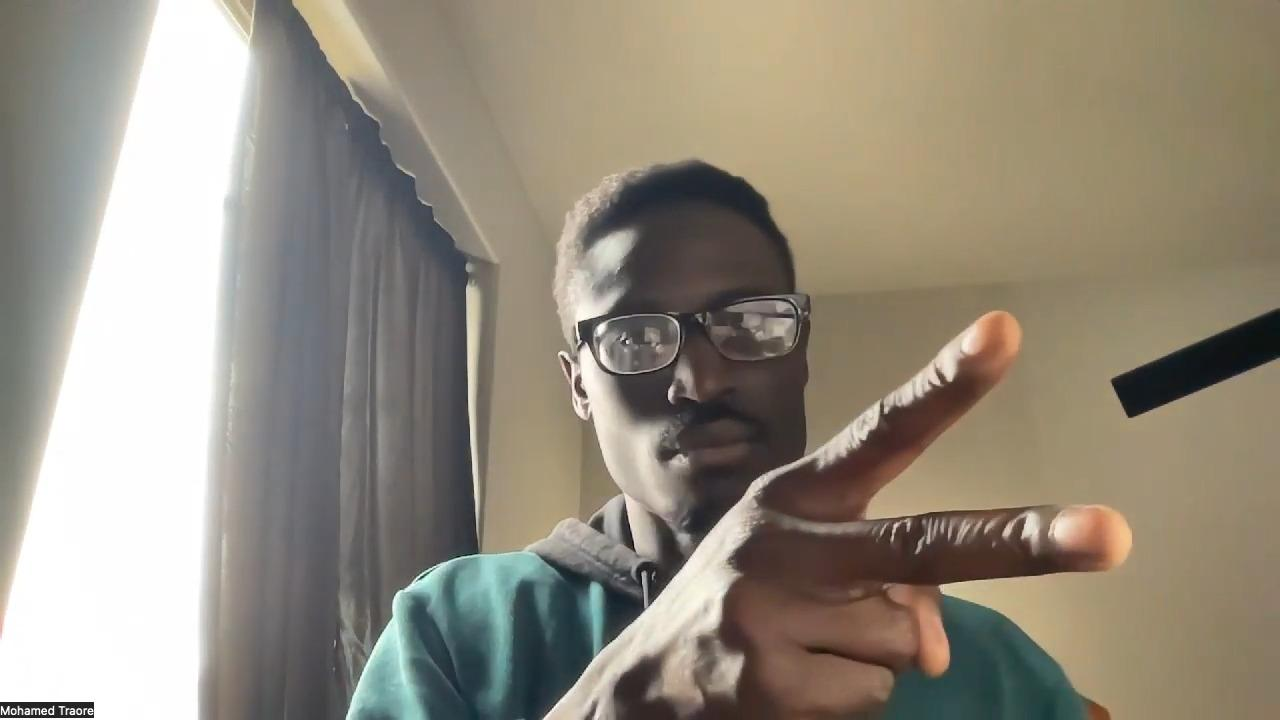Scissors: (578, 308, 1134, 720)
